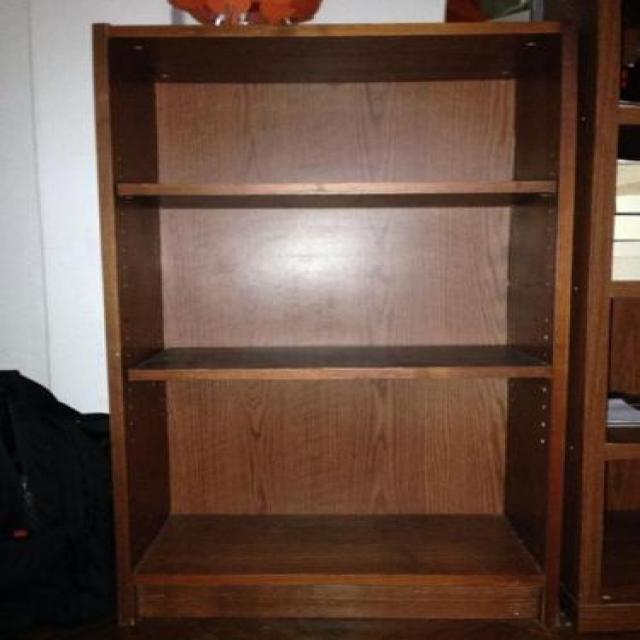Shelf: (79, 16, 586, 634)
